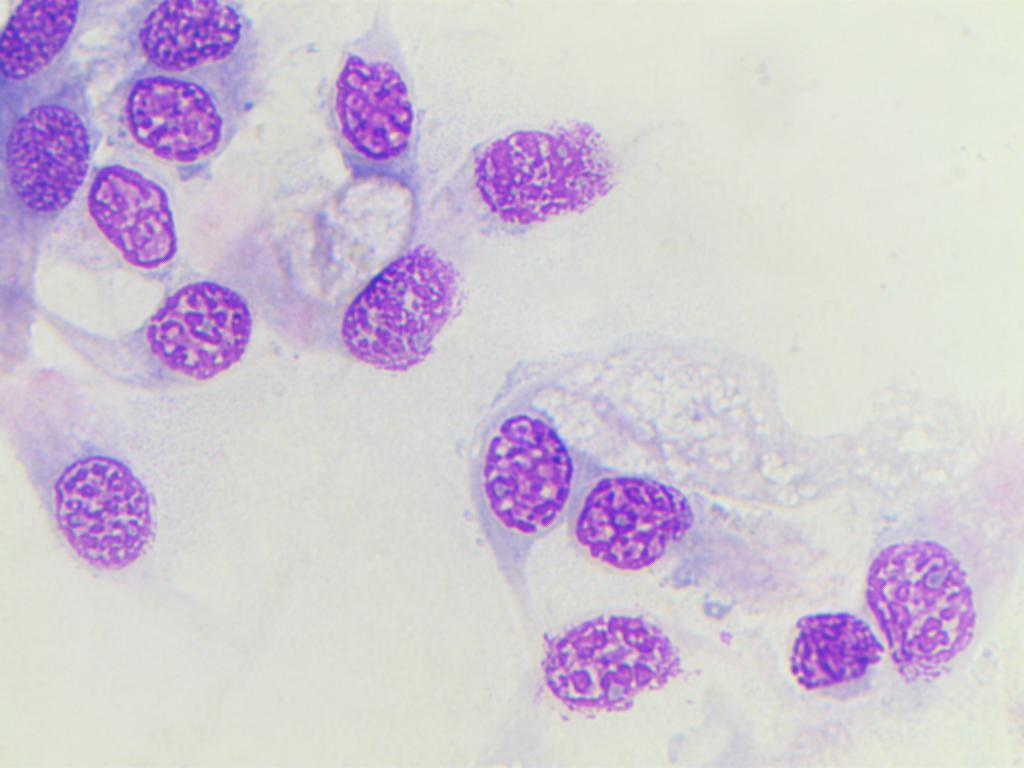epithelial: (874, 506, 977, 700), (340, 241, 483, 370), (461, 394, 571, 558), (472, 114, 622, 230), (525, 609, 686, 715), (43, 448, 162, 566), (104, 67, 230, 167), (571, 471, 698, 570), (147, 279, 248, 381), (323, 52, 414, 162), (85, 162, 181, 266), (772, 610, 881, 697), (2, 108, 89, 206)
